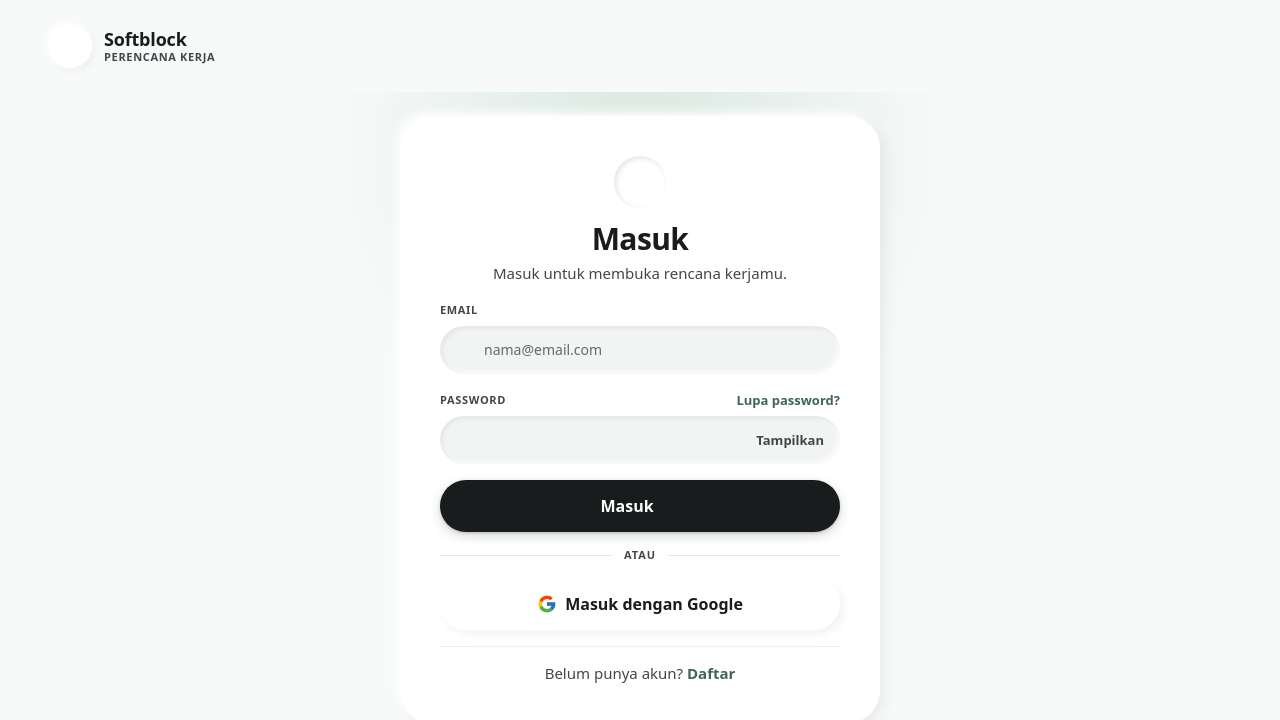
it: Dashboard › menampilkan semua bagian S-10 lalu Pola kerja dimuat terakhir
This screenshot has width=1280, height=720.
Type "demo@softblock.test" into the field labelled "Email" at (640, 350), box x1=440 y1=326 x2=840 y2=374
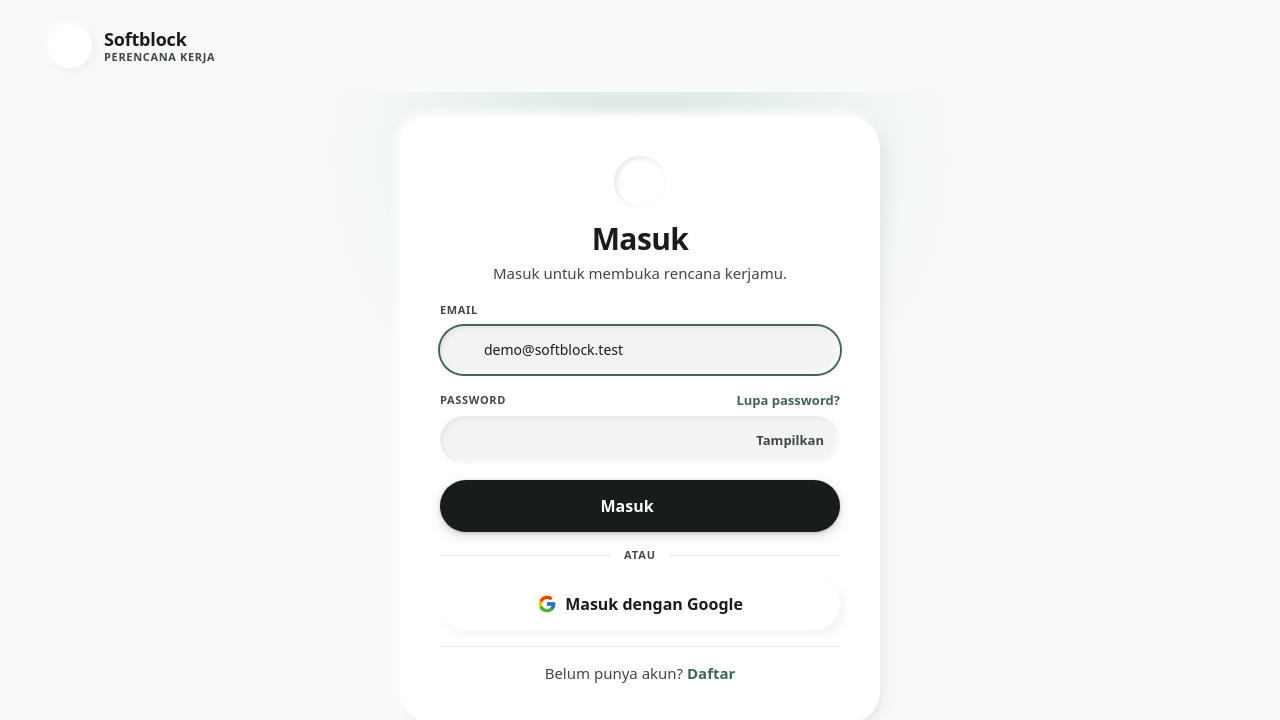
Type "perencana-demo" into the password field labelled "Password" at (640, 440), box x1=440 y1=416 x2=840 y2=464
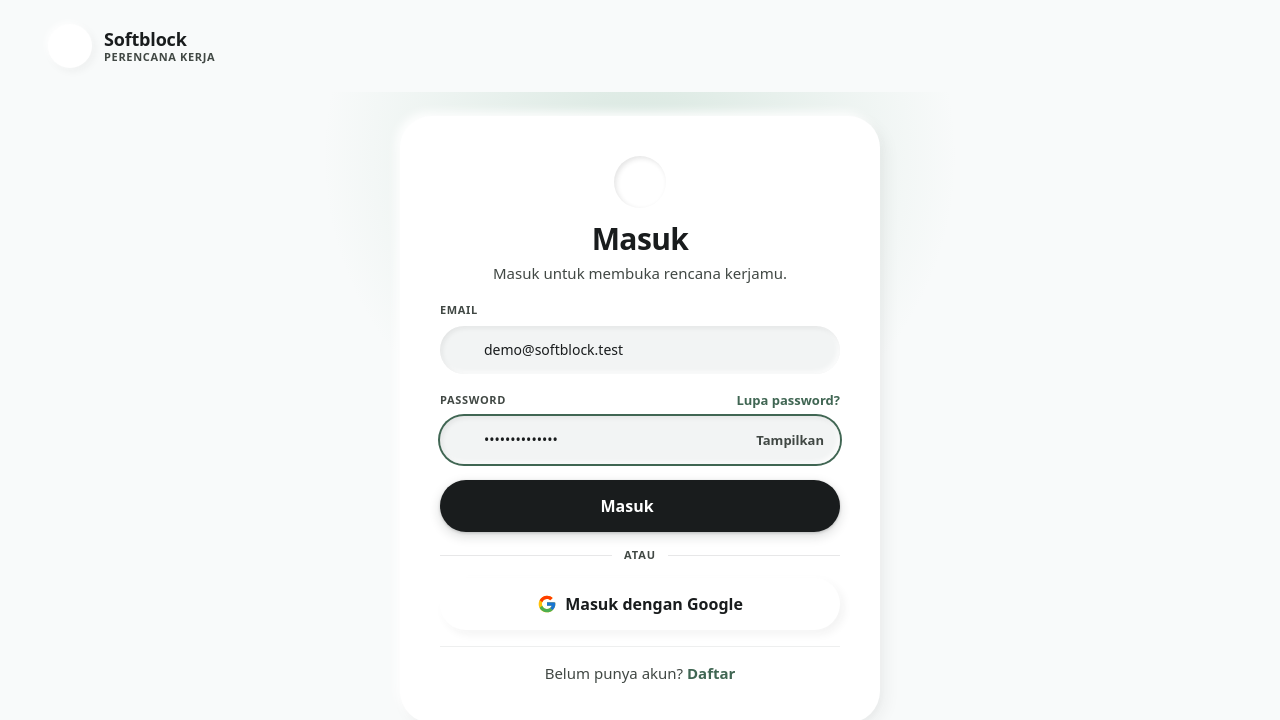
Click the button "Masuk" at (640, 506), box x1=440 y1=480 x2=840 y2=532
(page scrolled)
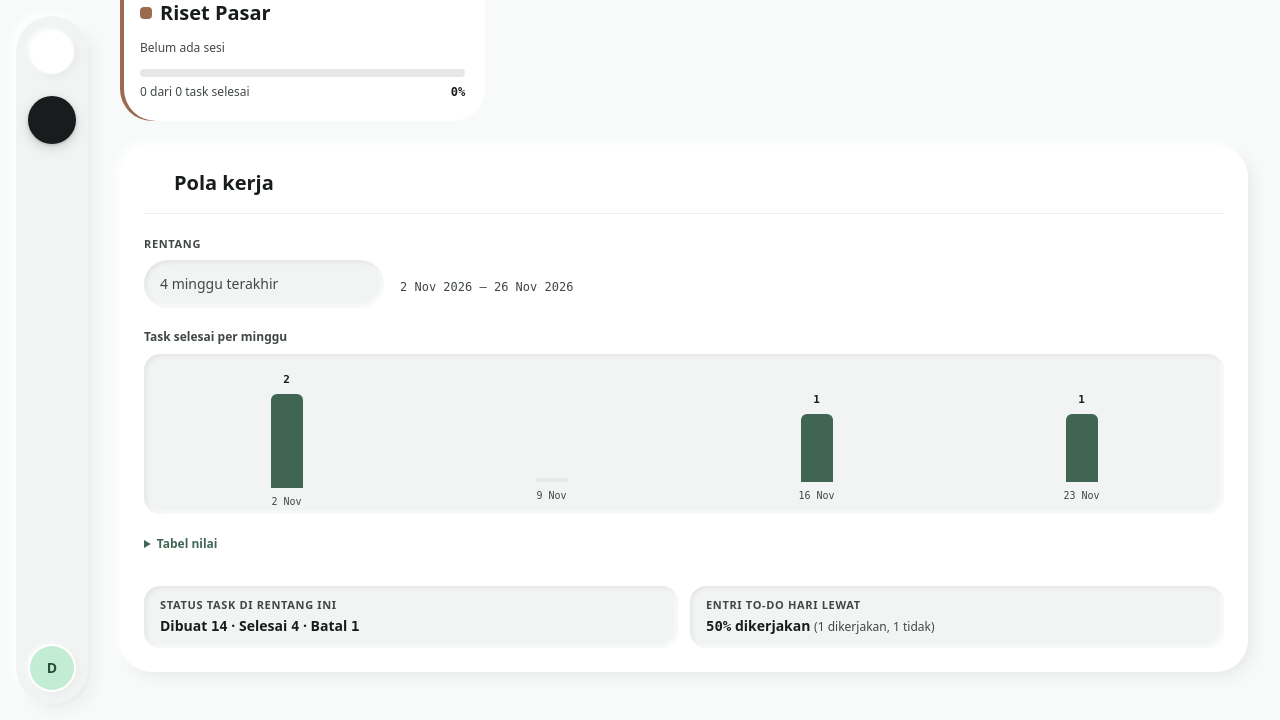
Expected: the text "Dibuat 14 · Selesai 4 · Batal 1" is shown, x1=160 y1=616 x2=359 y2=635
Expected: the picture named "Task selesai per minggu" is shown, x1=144 y1=354 x2=1224 y2=514
